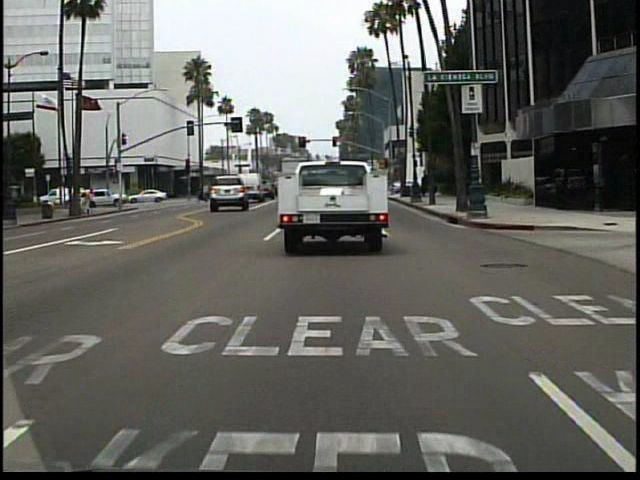person: (86, 187, 100, 213)
